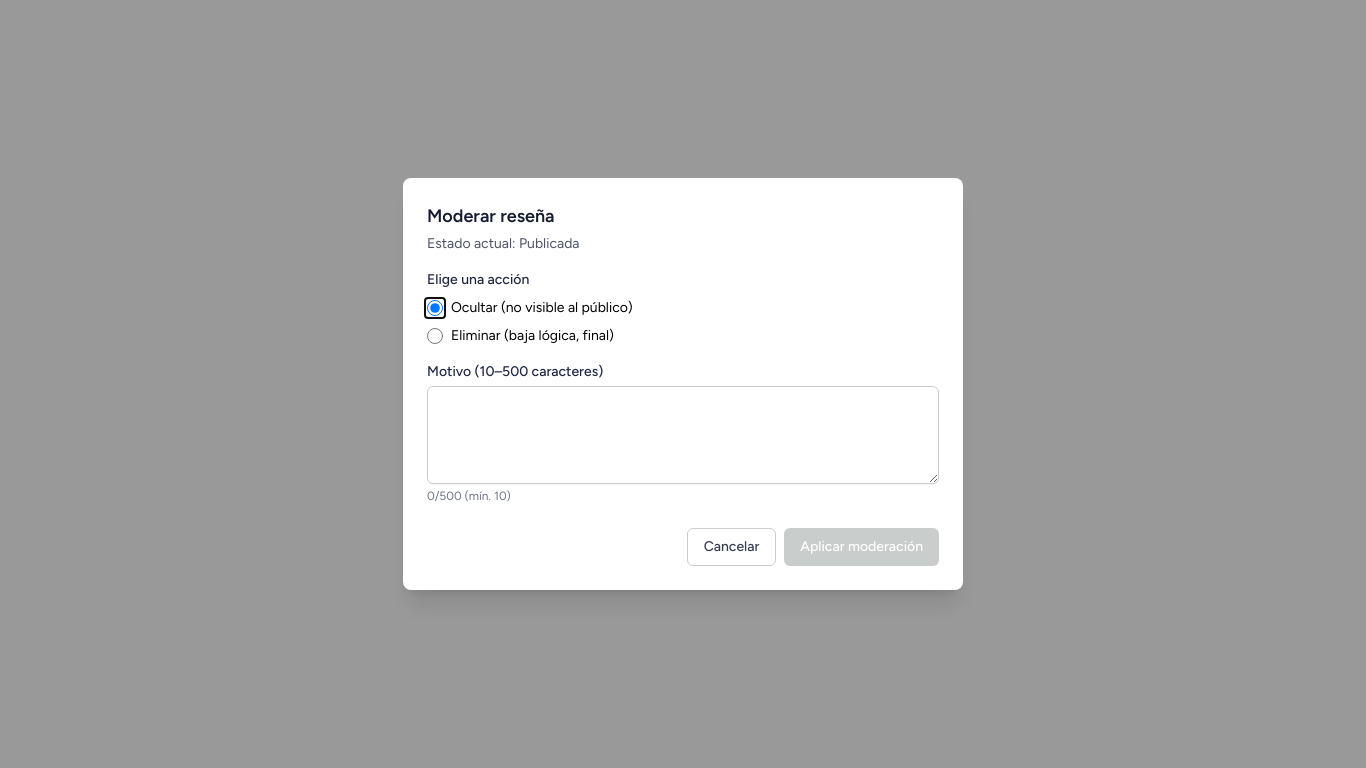
Test: US-067 · ModerationDialog › submit habilitado con reason >= 10 chars
Type "Contenido inapropiado." into the text box labelled "Motivo (10–500 caracteres)" at (683,435), box [427,386,939,484]
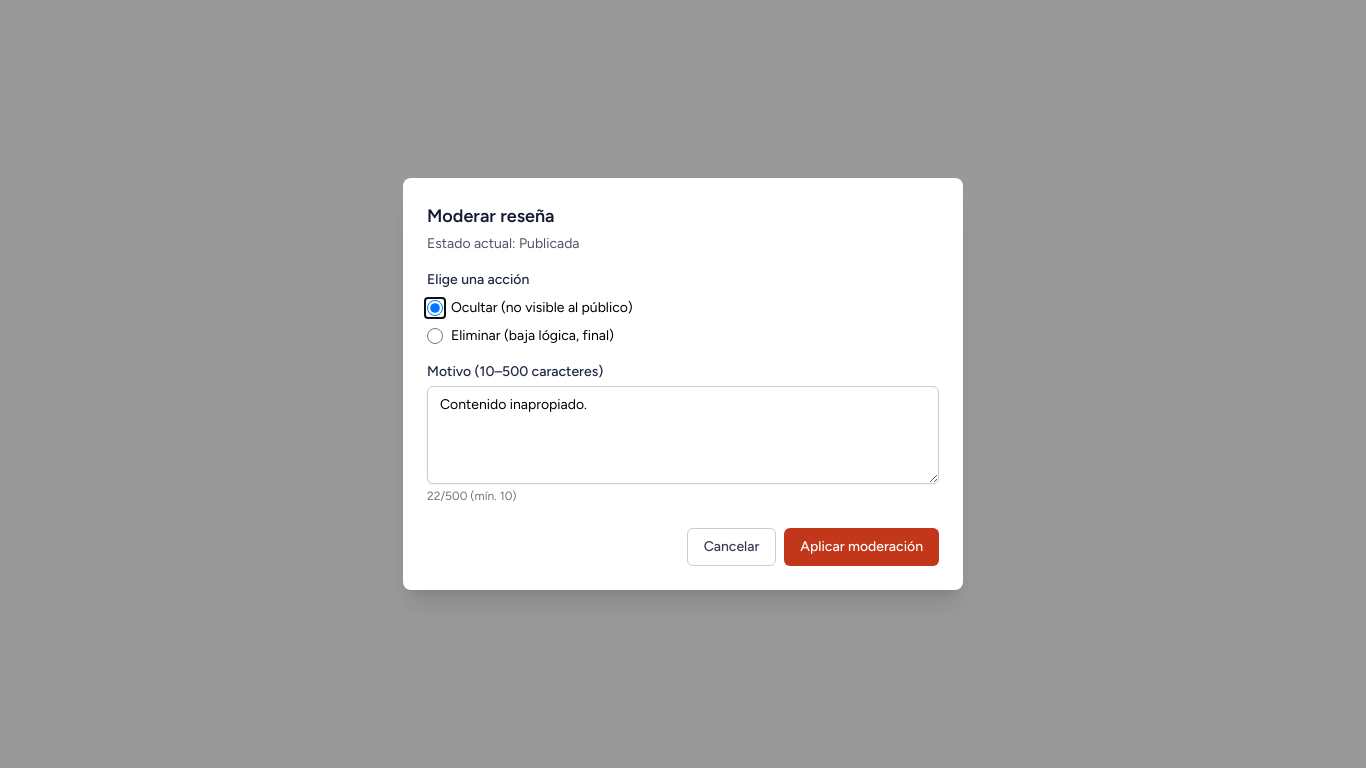
Expected: the button with test id "review-moderation-submit" is enabled, [784,528,939,566]
